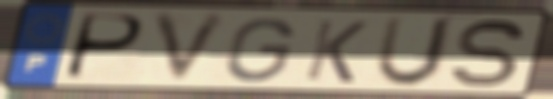G: (222, 15, 299, 85)
K: (300, 17, 371, 86)
P: (59, 11, 148, 83)
S: (449, 17, 529, 91)
U: (371, 14, 461, 90)
V: (149, 11, 235, 88)
